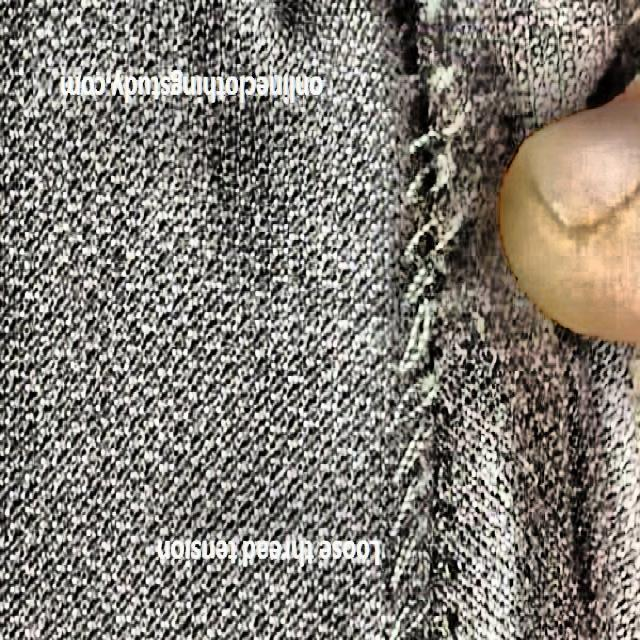gray stitch: (394, 29, 471, 640)
